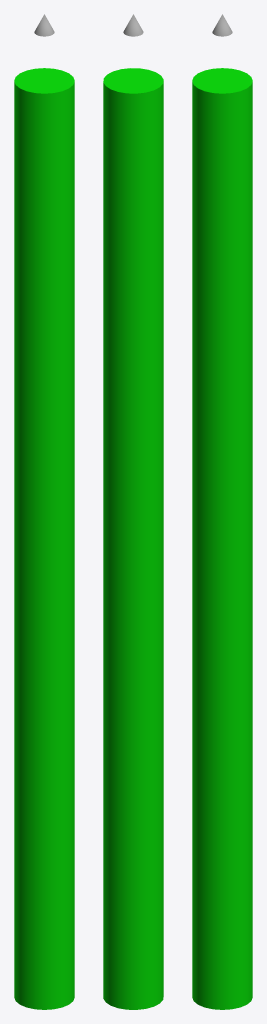
The model's file is EnemyQuiz.fbx.
The picture shows the model from 3 angles, left to right: view 1: azimuth 90°, elevation 25°; view 2: azimuth 150°, elevation 25°; view 3: azimuth 270°, elevation 25°; orthographic projection.
Visible parts, largest first — view 1: Kuki, FacePosition; view 2: Kuki, FacePosition; view 3: Kuki, FacePosition.
Part boxes in pixels (x1,y1,x2,y2): Kuki: (14, 68, 74, 1009); FacePosition: (34, 14, 54, 36); Kuki: (103, 68, 163, 1009); FacePosition: (123, 14, 143, 36); Kuki: (192, 68, 252, 1009); FacePosition: (212, 14, 232, 36).
Bounding box in the file's own units: 0.6 × 10.73 × 0.6.
